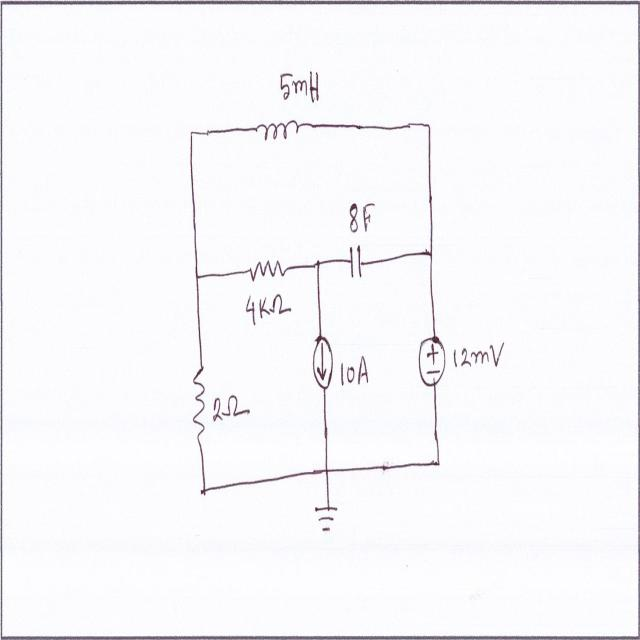capacitor: (347, 239, 363, 285)
current_source: (311, 330, 335, 395)
ground: (312, 498, 341, 538)
inductor: (256, 108, 300, 150)
resistor: (188, 364, 209, 442), (246, 254, 287, 287)
voltage_source: (416, 327, 448, 392)
